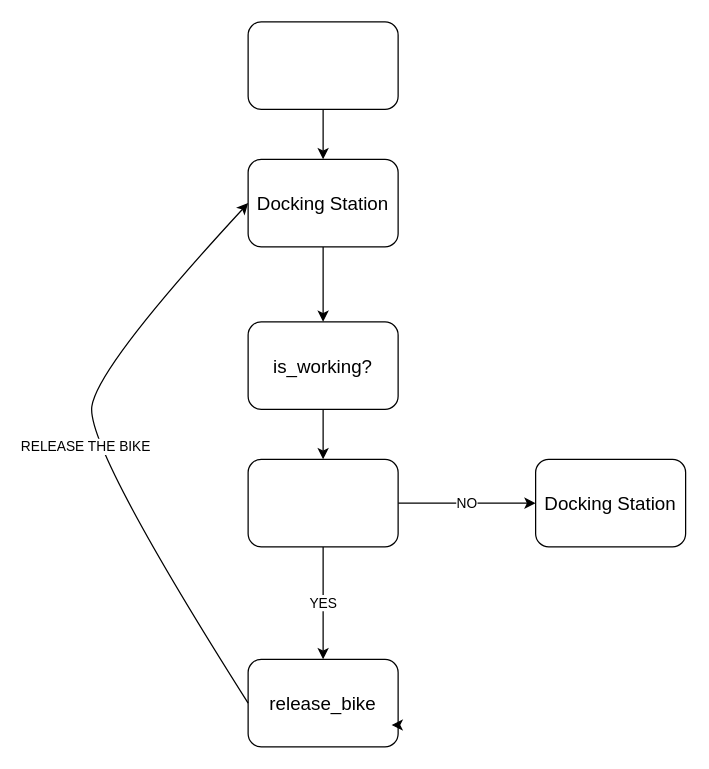
Image size: 709x769. Some labels were removed from this diagram. Each missing label, with the centre of its shape:
Bike: the point at 322,502
Person: the point at 322,65
